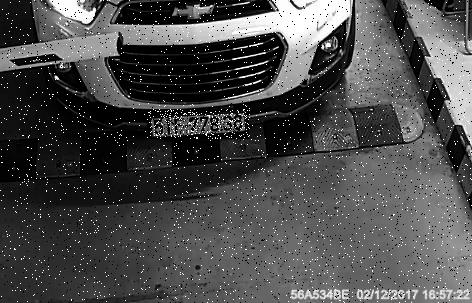License-plate: (149, 110, 252, 140)
